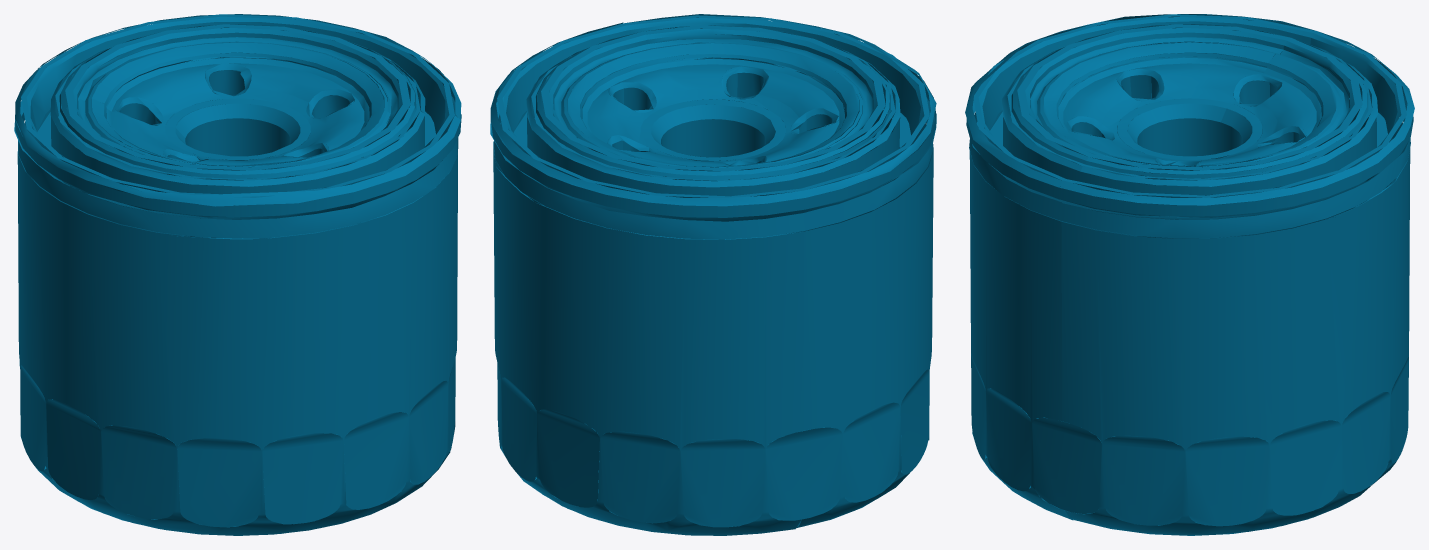
The model's file is step34.fbx.
3 views of the same model, side by side, from view 1: azimuth 30°, elevation 25°; view 2: azimuth 150°, elevation 25°; view 3: azimuth 270°, elevation 25° (orthographic).
Parts seen in each view (by area): view 1: en0016_01; view 2: en0016_01; view 3: en0016_01.
Part boxes in pixels (x1,y1,x2,y2): en0016_01: (14,14,461,535); en0016_01: (490,14,936,535); en0016_01: (965,14,1414,535).
Bounding box in the file's own units: 81.45 × 76.5 × 81.7.
